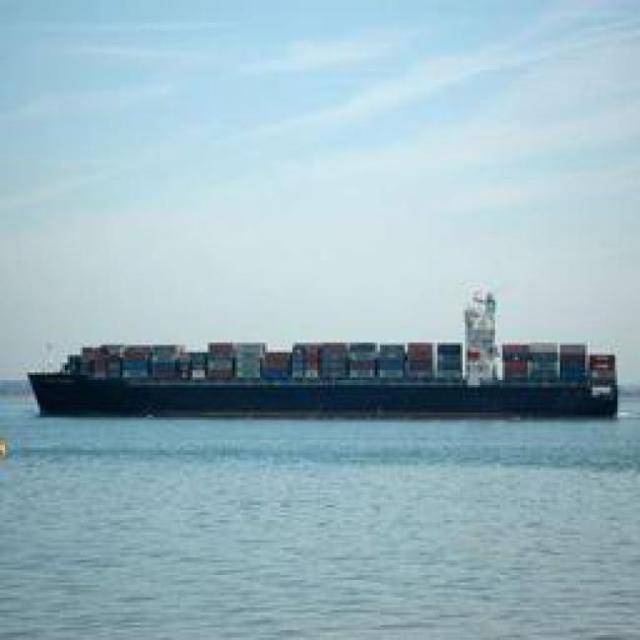boat: (19, 336, 621, 422)
